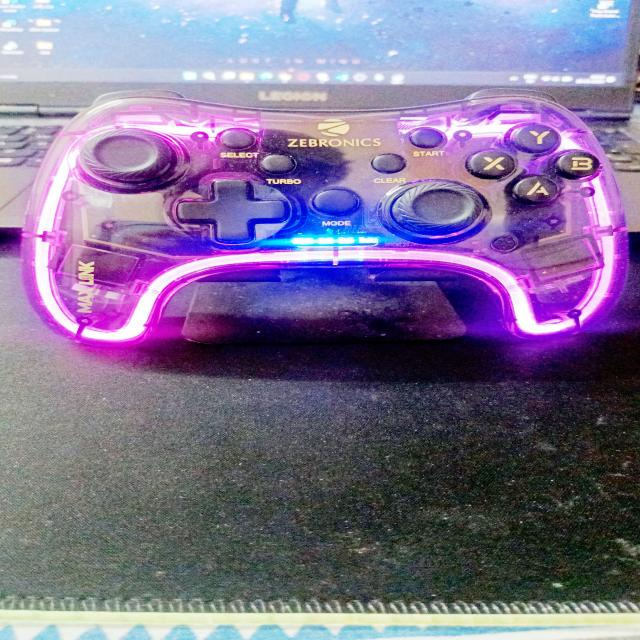gamepad: (20, 88, 630, 348)
